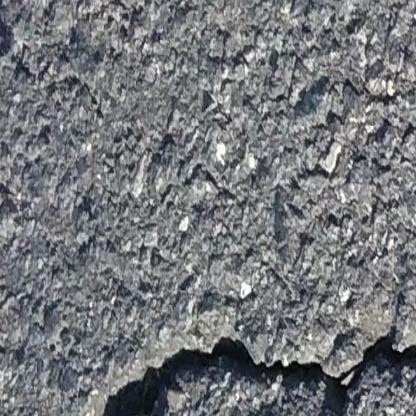Cracks: (52, 305, 416, 416), (0, 0, 64, 85)
